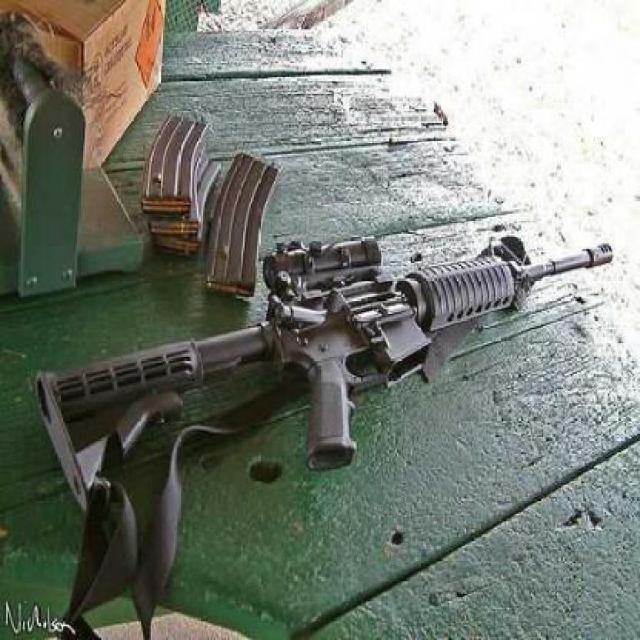weapon: (30, 233, 616, 507)
